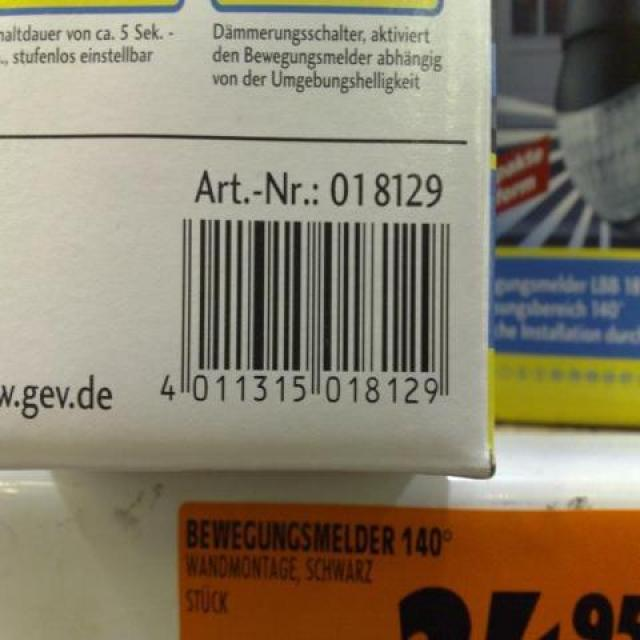Barcode: (145, 206, 479, 426)
